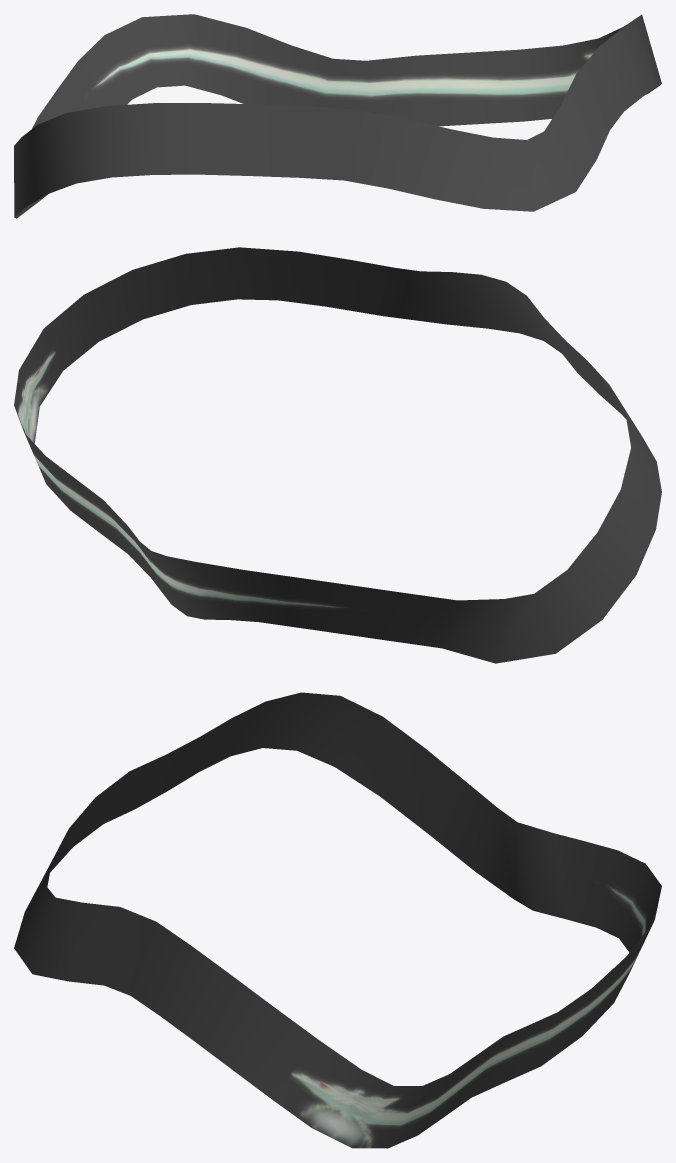
File: xms_chuangjue_cong01.FBX
The picture shows the model from 3 angles, top to bottom: view 1: azimuth 30°, elevation 25°; view 2: azimuth 150°, elevation 25°; view 3: azimuth 270°, elevation 25°; orthographic projection. The views are drawn at different scales.
Visible parts, largest first — view 1: xms_chuangjue_cong01; view 2: xms_chuangjue_cong01; view 3: xms_chuangjue_cong01.
Part boxes in pixels (left/top/right/bottom): xms_chuangjue_cong01: left=14, top=14, right=661, bottom=218; xms_chuangjue_cong01: left=14, top=247, right=661, bottom=663; xms_chuangjue_cong01: left=14, top=692, right=661, bottom=1148.
Size of the model in its own units: 74.68 by 23.11 by 63.55.
